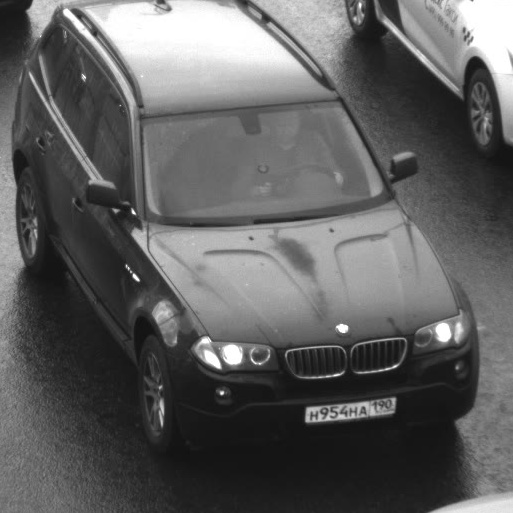plate: (293, 386, 404, 430)
